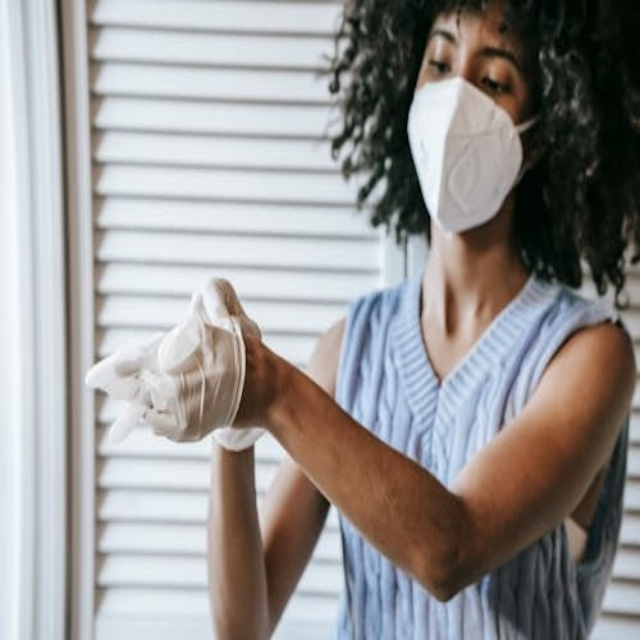Guantes: (84, 277, 267, 453)
Mascara: (405, 75, 538, 237)
Sin_gafas: (425, 25, 524, 98)
